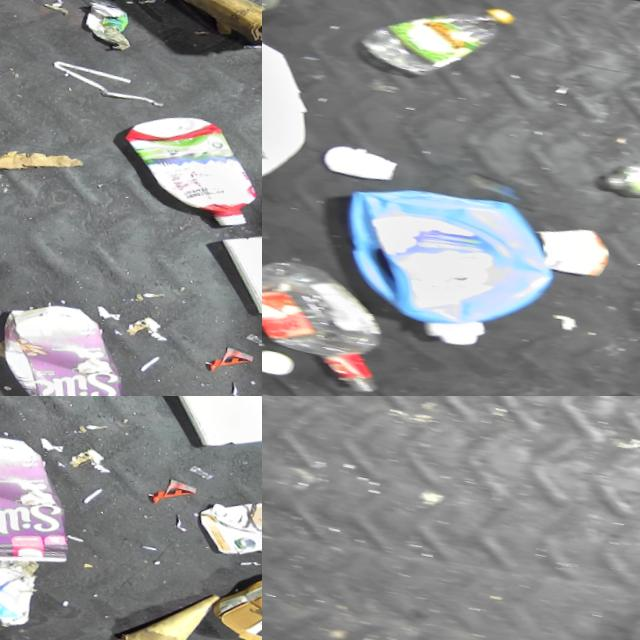can: (345, 0, 519, 103)
milk_jug: (262, 10, 333, 214)
non_white_jug: (306, 170, 565, 373), (0, 425, 82, 581), (184, 488, 262, 589)
